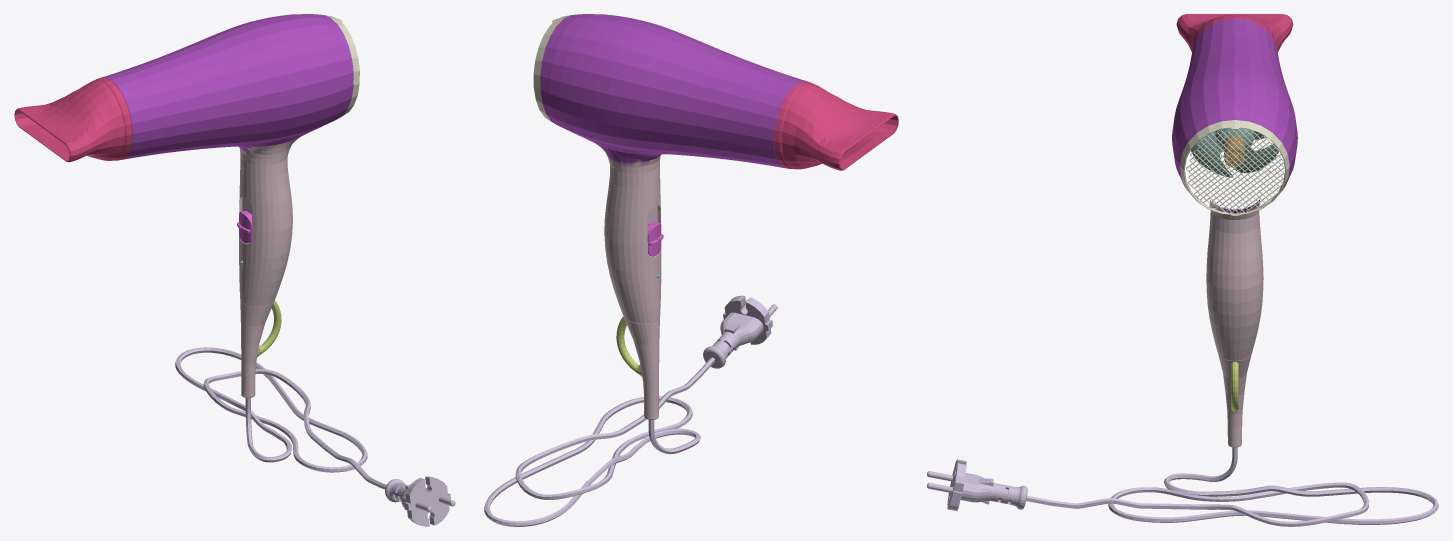
The picture shows the model from 3 angles, left to right: view 1: azimuth 30°, elevation 25°; view 2: azimuth 150°, elevation 25°; view 3: azimuth 270°, elevation 25°; orthographic projection. The views are drawn at different scales.
Visible parts, largest first — view 1: pred_mesh_gc.ply; view 2: pred_mesh_gc.ply; view 3: pred_mesh_gc.ply.
Part boxes in pixels (bbox=[...]): pred_mesh_gc.ply: bbox=[14, 14, 455, 526]; pred_mesh_gc.ply: bbox=[484, 14, 898, 526]; pred_mesh_gc.ply: bbox=[927, 14, 1438, 526].
Size of the model in its own units: 0.458 by 0.5947 by 0.6607.
